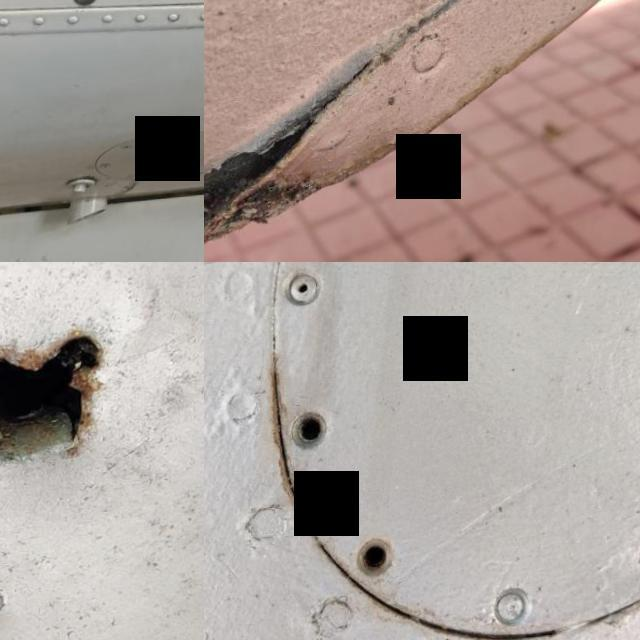Crack: (204, 69, 361, 262), (0, 318, 129, 514)
Missing_Fastener: (270, 388, 352, 474), (347, 520, 432, 602)
